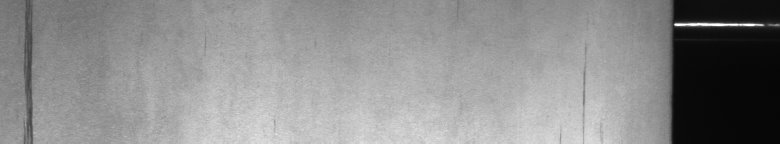hd: (16, 4, 44, 136)
